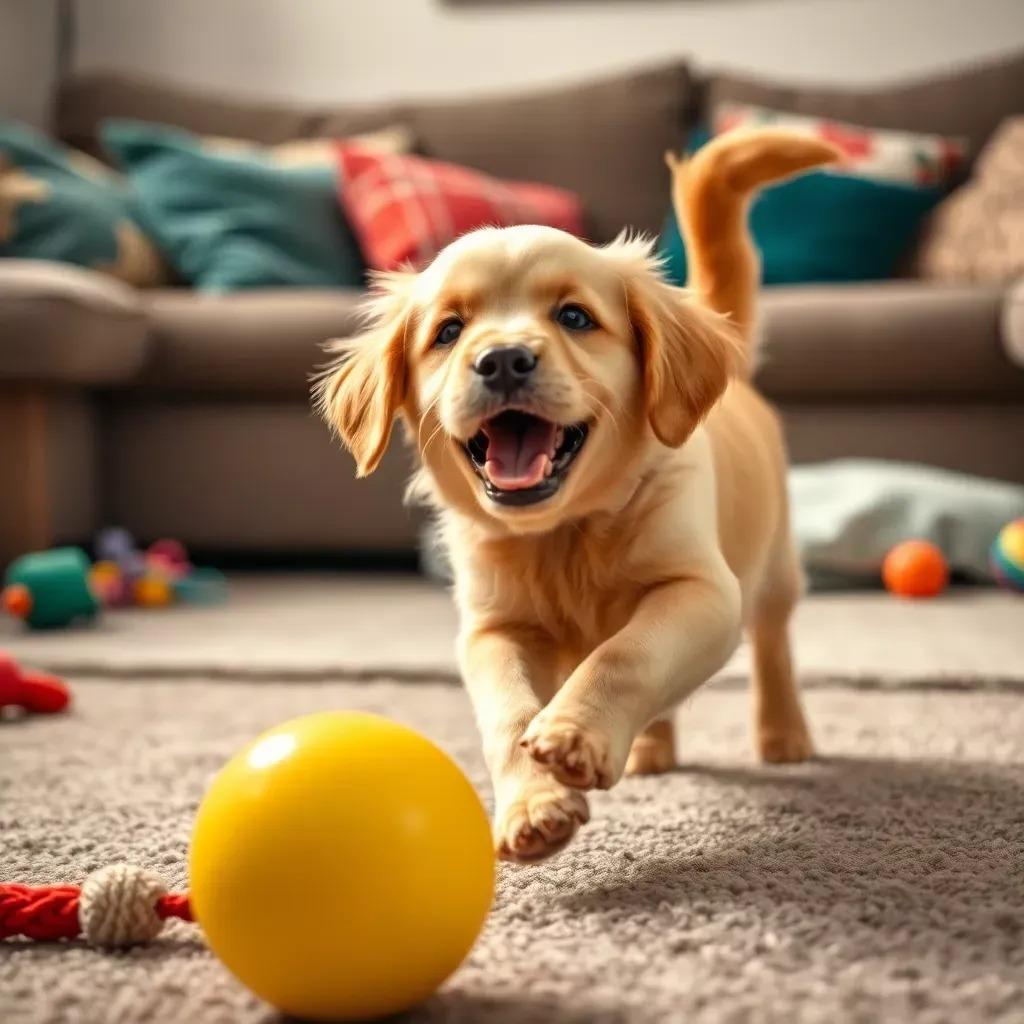puppy-dog: (316, 119, 849, 863)
